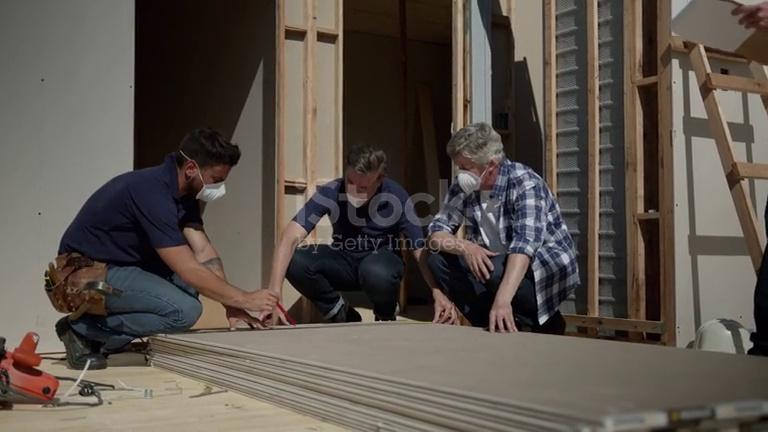mask: (195, 177, 227, 201), (453, 170, 482, 193), (344, 185, 370, 207)
person: (44, 126, 286, 371), (263, 144, 454, 326), (423, 121, 579, 335)
